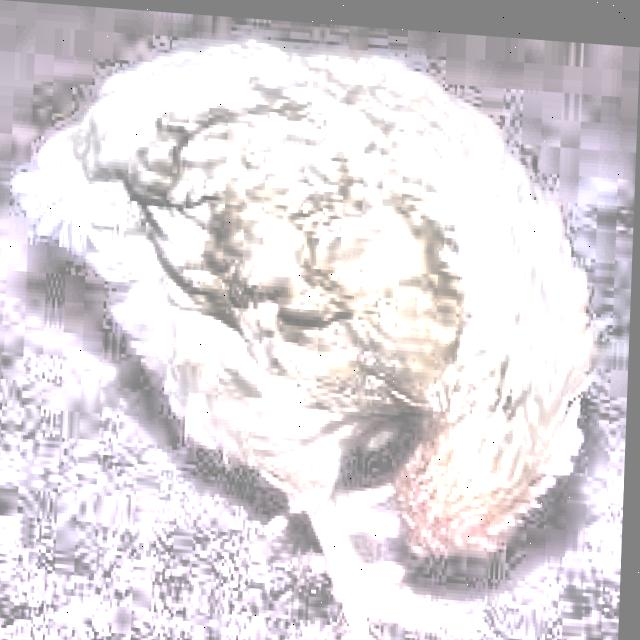Newcastle: (371, 242, 595, 640)
